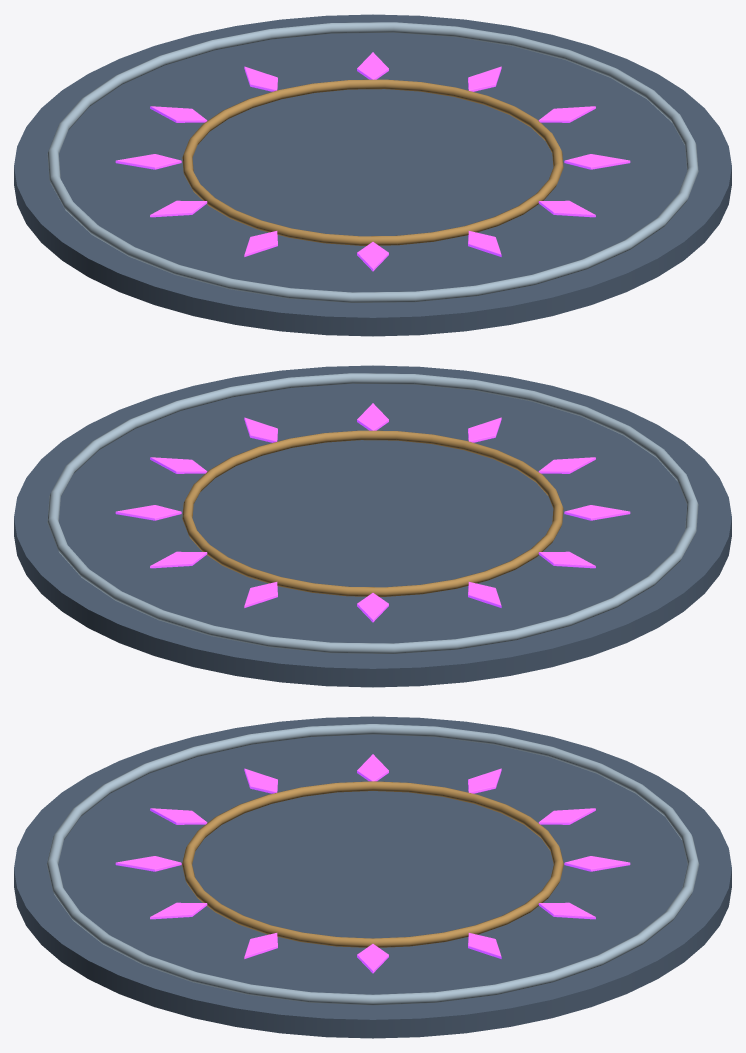
Rendered from moonsteel-convergence-boss-arena-floor-db280bcc__18194.glb.
The picture shows the model from 3 angles, top to bottom: view 1: azimuth 30°, elevation 25°; view 2: azimuth 150°, elevation 25°; view 3: azimuth 270°, elevation 25°; orthographic projection.
Parts seen in each view (by area): view 1: boss-arena-floor; view 2: boss-arena-floor; view 3: boss-arena-floor.
Part boxes in pixels (x1,y1,x2,y2): boss-arena-floor: (14,14,731,336); boss-arena-floor: (14,365,731,687); boss-arena-floor: (14,716,731,1038).
Bounding box in the file's own units: 5.6 × 0.235 × 5.6.
